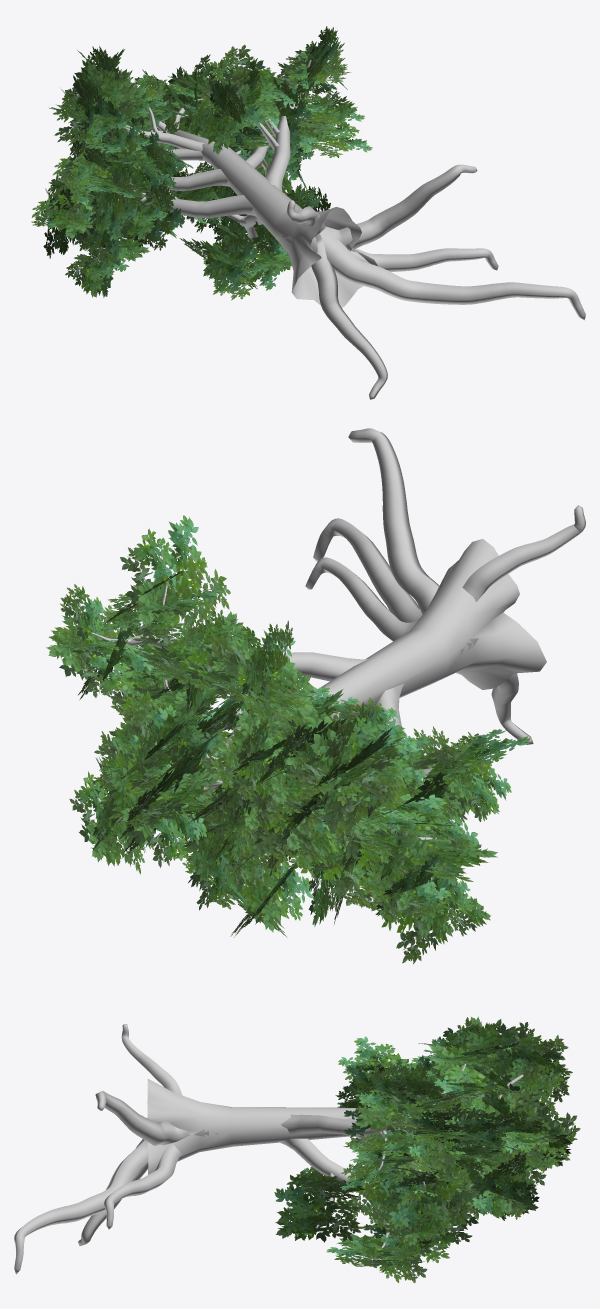
File: Tree 1.FBX
3 views of the same model, one above another, from view 1: azimuth 30°, elevation 25°; view 2: azimuth 150°, elevation 25°; view 3: azimuth 270°, elevation 25° (orthographic). The views are drawn at different scales.
Visible parts, largest first — view 1: tree_1; view 2: tree_1; view 3: tree_1.
Boxes of the visible parts, bbox=[...] form: tree_1: bbox=[31, 26, 585, 399]; tree_1: bbox=[46, 428, 585, 964]; tree_1: bbox=[14, 1016, 580, 1282].
Size of the model in its own units: 754 by 565 by 1097.
